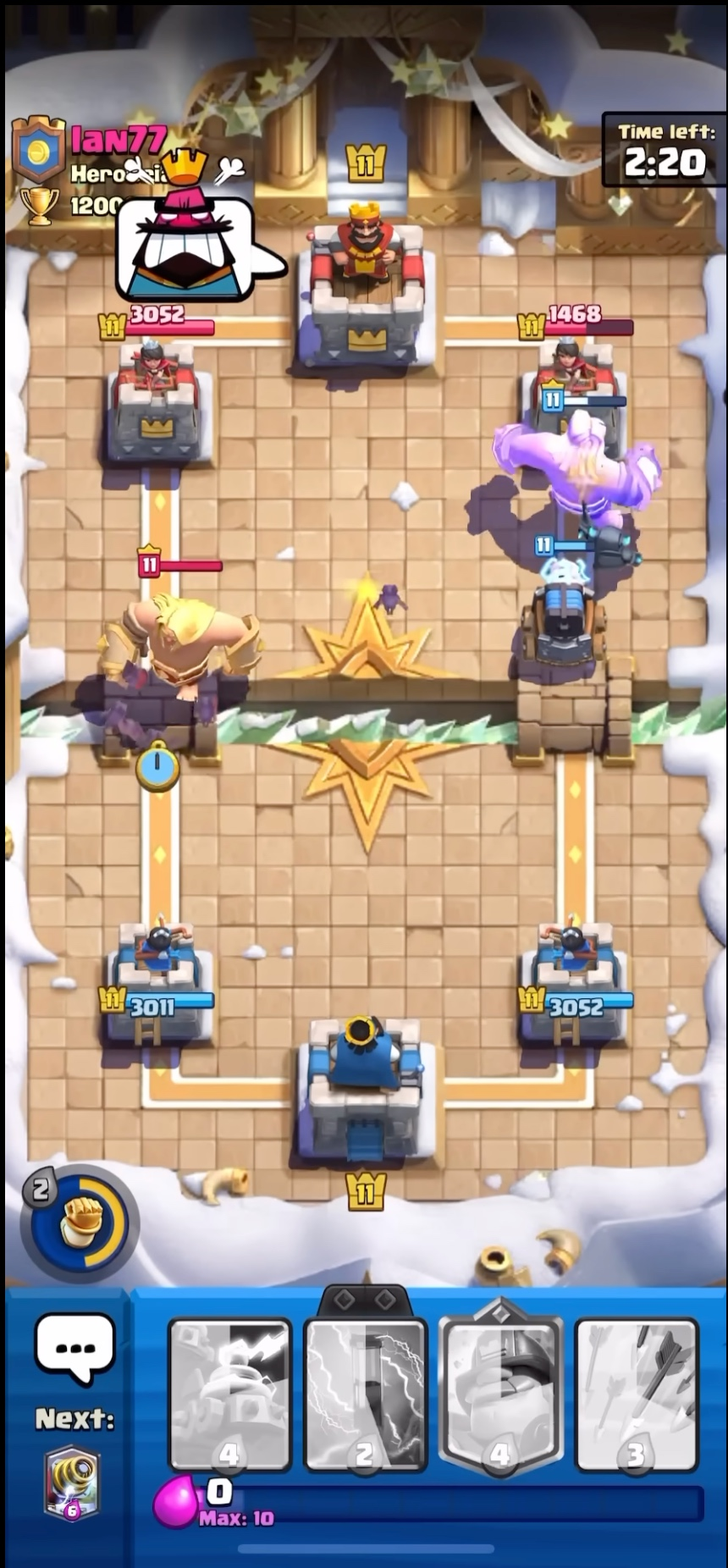hero-giant: (99, 531, 268, 721)
